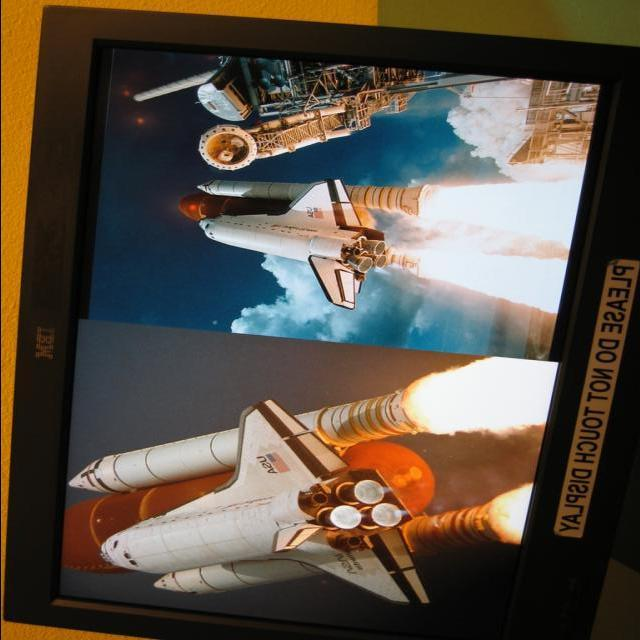Missile: (45, 360, 465, 518), (181, 171, 432, 210)
